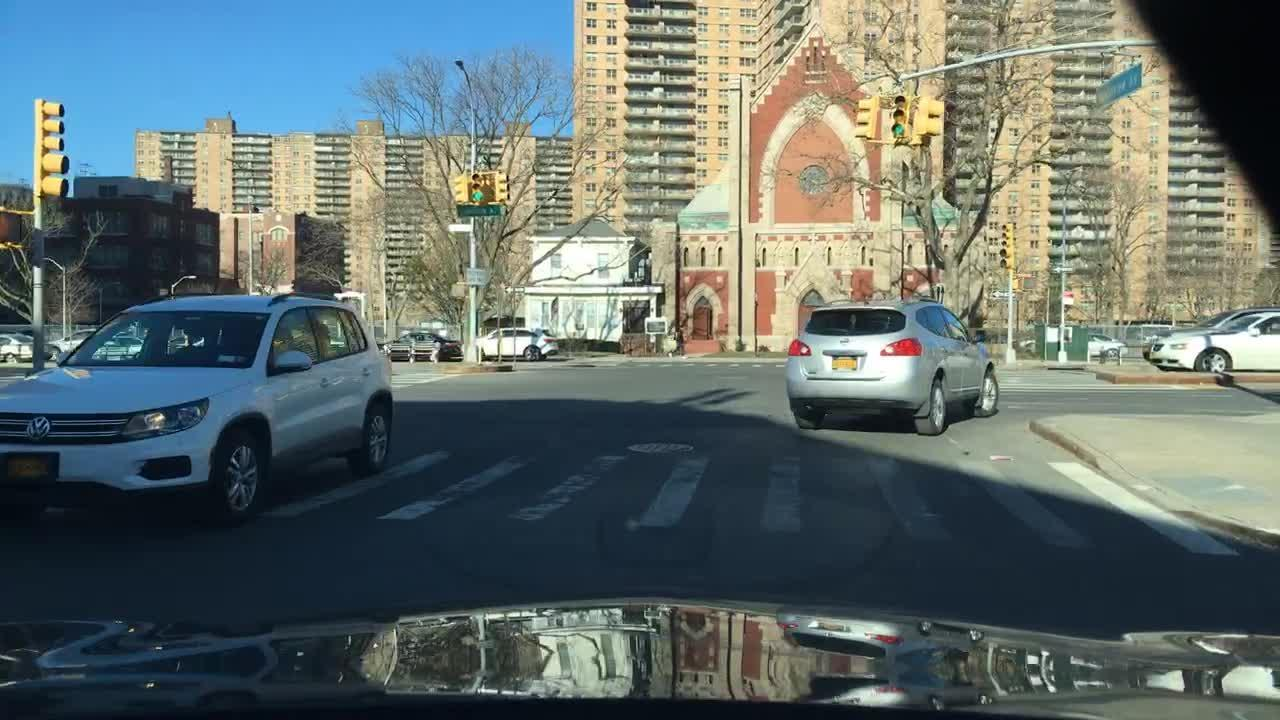Volkswagen: (17, 410, 58, 446)
